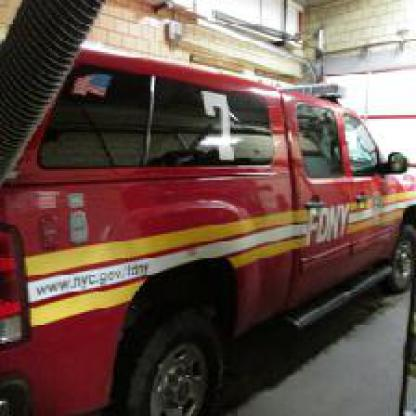emergency: (2, 35, 414, 414)
